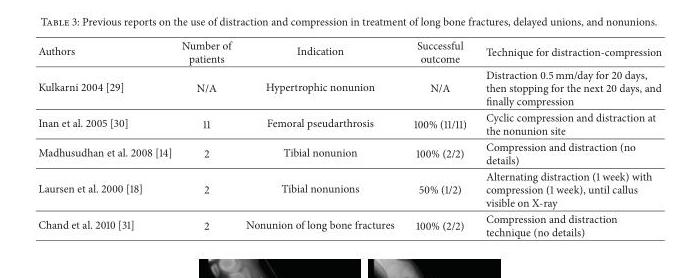table: (37, 37, 660, 239)
table column: (472, 37, 660, 239), (237, 37, 403, 239), (37, 37, 176, 239), (403, 37, 472, 239), (176, 37, 237, 239)
table column header: (37, 37, 660, 66)
table row: (37, 167, 660, 210), (37, 66, 660, 108), (37, 108, 660, 138), (37, 37, 660, 66), (37, 138, 660, 167), (37, 210, 660, 239)
